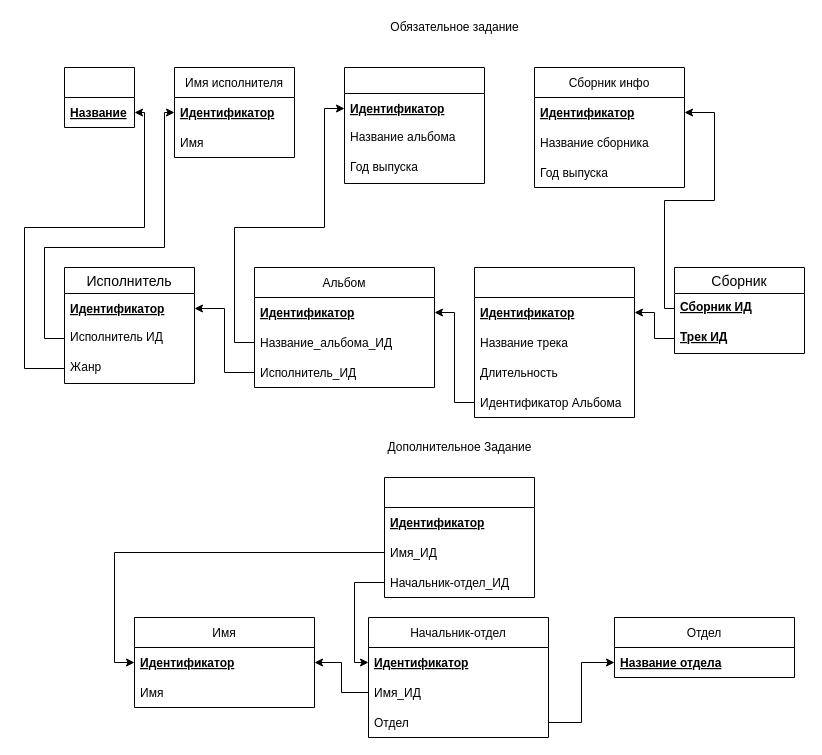
Some shapes in this 822 by 755 pixel diagram are drawn without their labels. Each missing label, with the box of its shape:
Альбом инфо: (344, 66, 484, 184)
Жанры: (64, 66, 134, 128)
Сотрудник: (384, 476, 534, 598)
Треки: (474, 266, 634, 418)
